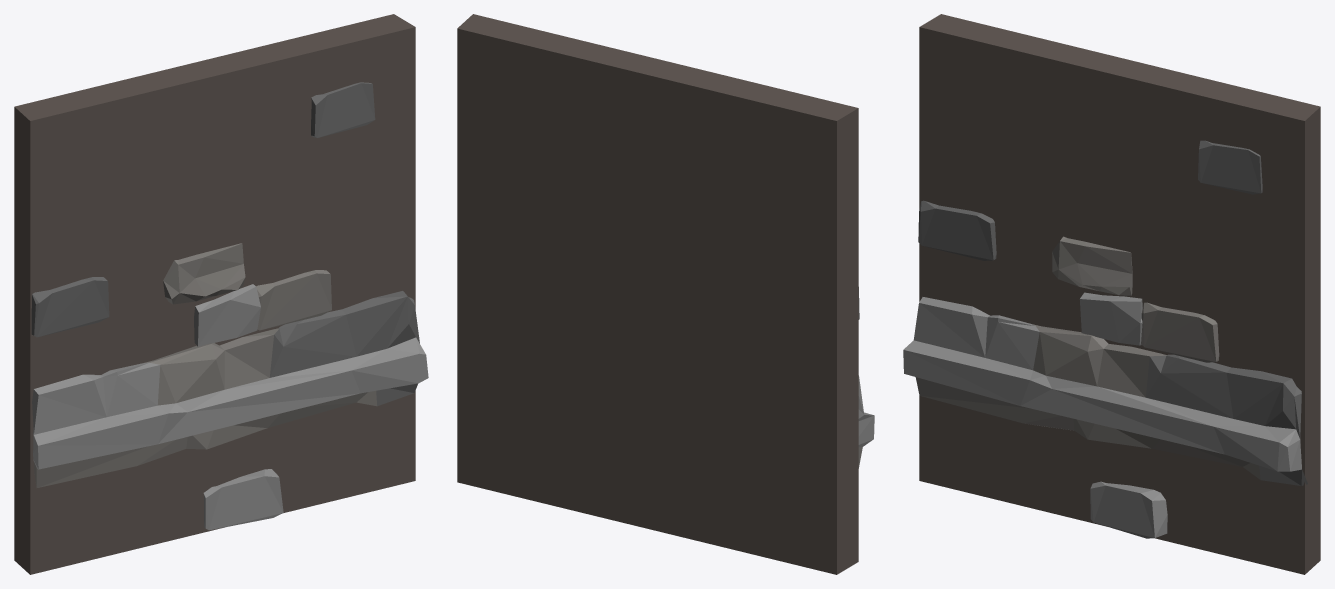
The model's file is MCastle_SquareWalls_Border_01.FBX.
The picture shows the model from 3 angles, left to right: view 1: azimuth 30°, elevation 25°; view 2: azimuth 150°, elevation 25°; view 3: azimuth 330°, elevation 25°; orthographic projection.
Parts seen in each view (by area): view 1: MCastle_SquareWalls_Border_01_B_LOD0; view 2: MCastle_SquareWalls_Border_01_B_LOD0; view 3: MCastle_SquareWalls_Border_01_B_LOD0.
Part boxes in pixels (x1=…): MCastle_SquareWalls_Border_01_B_LOD0: x1=14, y1=14, x2=428, y2=574; MCastle_SquareWalls_Border_01_B_LOD0: x1=457, y1=14, x2=874, y2=574; MCastle_SquareWalls_Border_01_B_LOD0: x1=903, y1=14, x2=1320, y2=574.
Size of what is drawn, in the model's own units: 4.06 by 4.5 by 0.6118.
